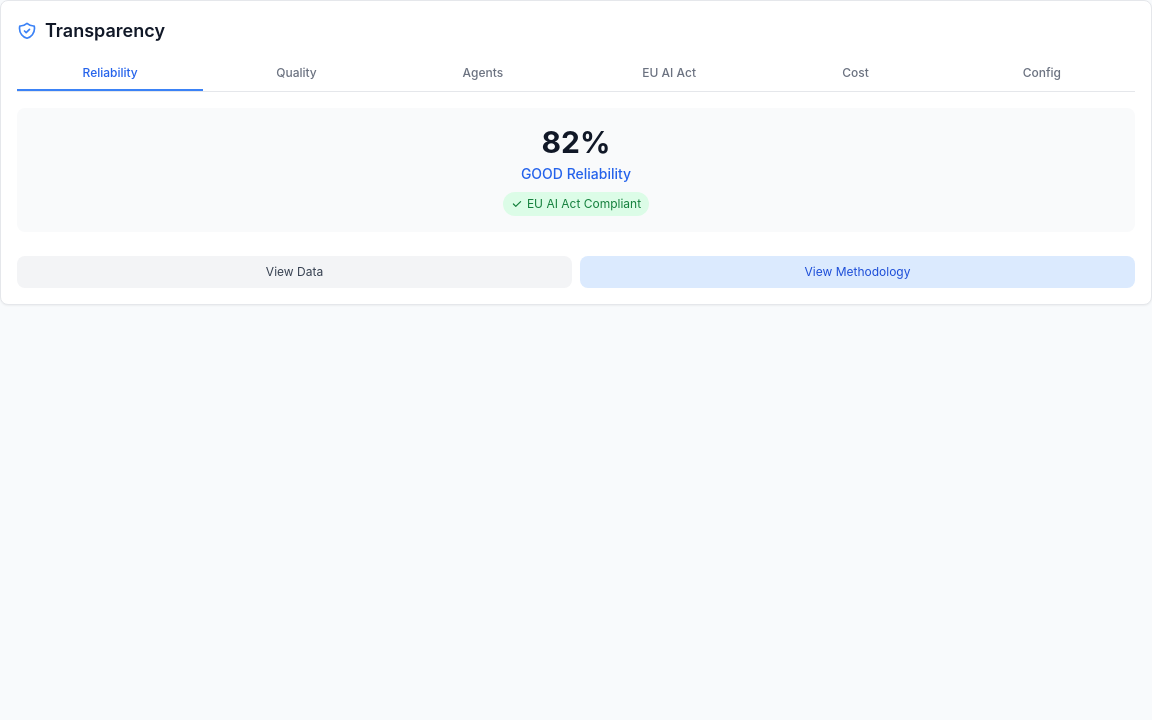
Test: DataModal -- lineage flowchart › renders all five flow nodes: Input, Router, Agent, Guardian, Output
The width and height of the screenshot is (1152, 720).
Step 1. Click the button "View Data" → (294, 272), box [17, 256, 572, 288]
(page scrolled)
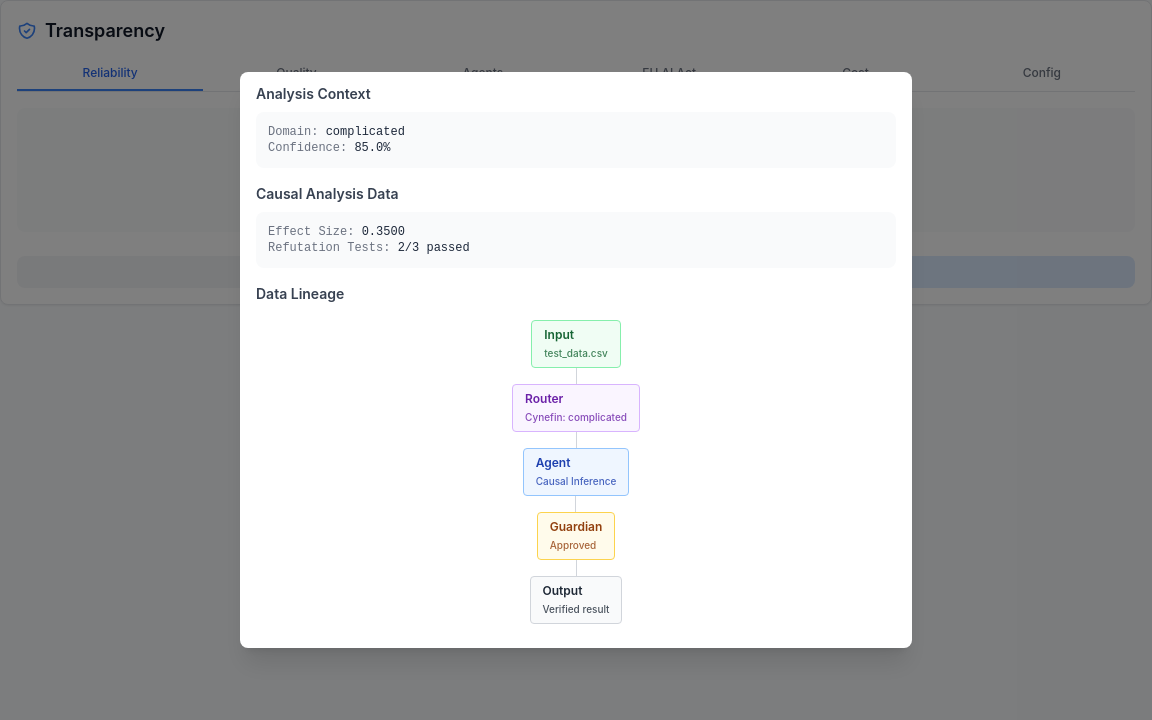
expect the element with test id "data-lineage-flow" is shown: met, box [512, 320, 640, 624]
expect the element with test id "flow-node-input" is shown: met, box [531, 320, 621, 368]
expect the element with test id "flow-node-router" is shown: met, box [512, 384, 640, 432]
